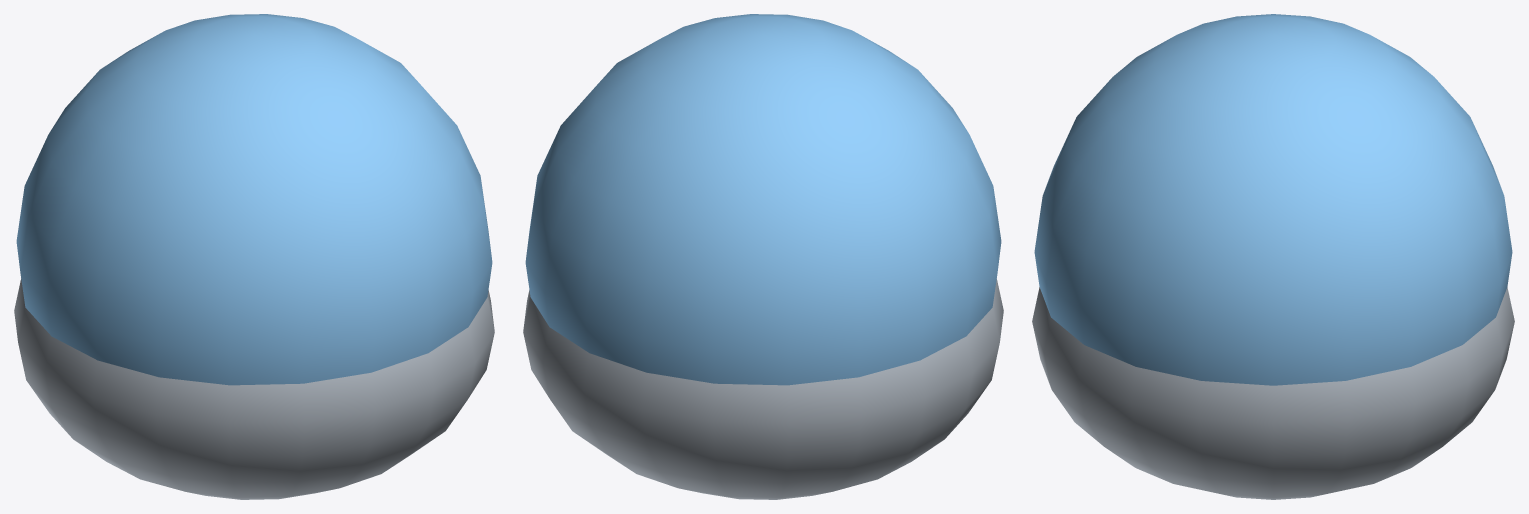
Rendered from SM_CommonCapsule.fbx.
3 renders of one model, left to right at view 1: azimuth 30°, elevation 25°; view 2: azimuth 150°, elevation 25°; view 3: azimuth 270°, elevation 25°, orthographic.
Parts seen in each view (by area): view 1: SM_CommonCapsule; view 2: SM_CommonCapsule; view 3: SM_CommonCapsule.
Boxes of the visible parts, x1=… form: SM_CommonCapsule: x1=14, y1=14, x2=494, y2=499; SM_CommonCapsule: x1=523, y1=14, x2=1003, y2=499; SM_CommonCapsule: x1=1032, y1=14, x2=1514, y2=499.
Bounding box in the file's own units: 2.02 × 2.02 × 2.
